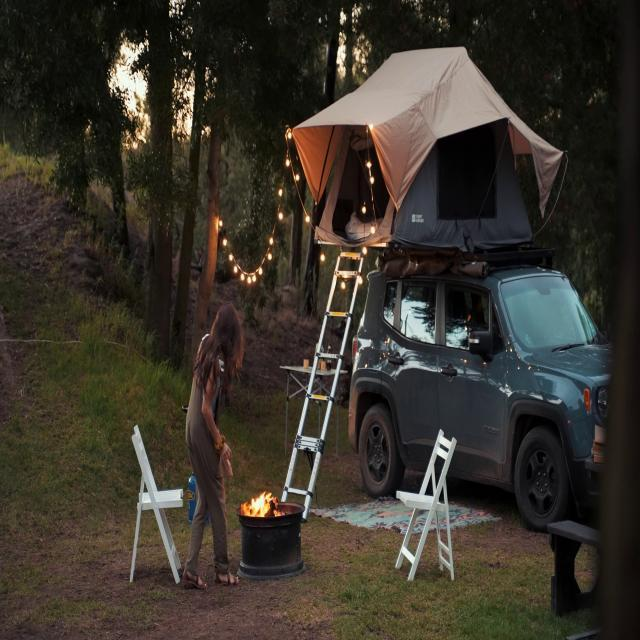Fire: (238, 482, 284, 520)
